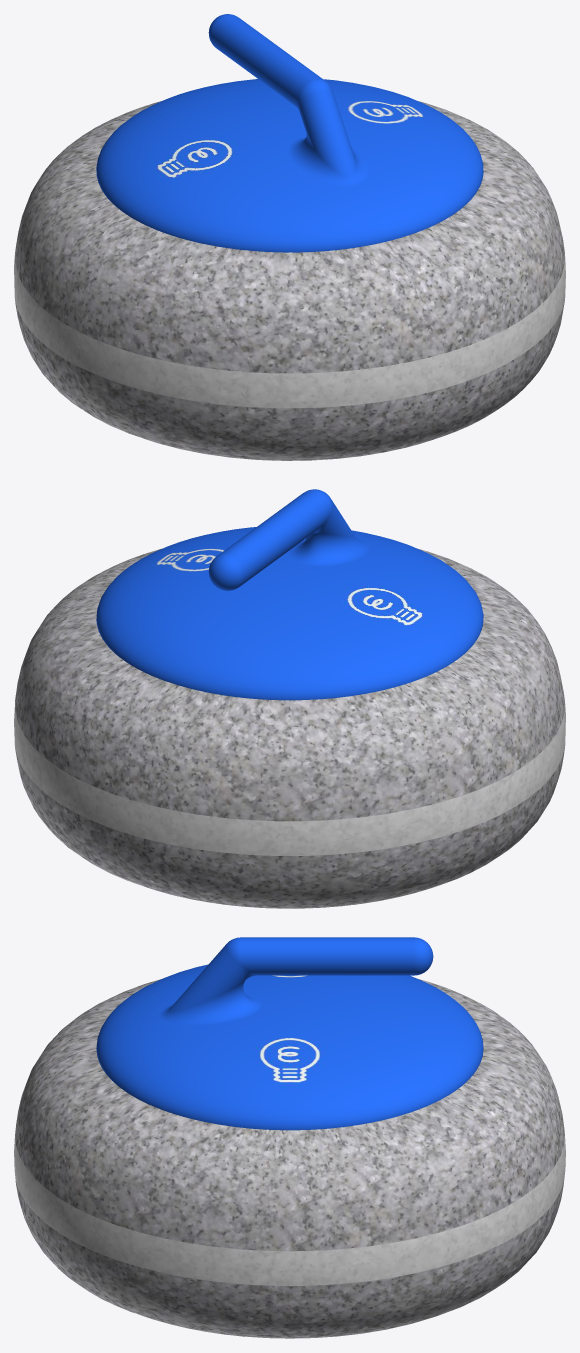
The model's file is stone-blue.glb.
3 renders of one model, top to bottom at view 1: azimuth 30°, elevation 25°; view 2: azimuth 150°, elevation 25°; view 3: azimuth 270°, elevation 25°, orthographic.
Visible parts, largest first — view 1: Body4, Body7, Body5, Body6; view 2: Body4, Body7, Body5, Body6; view 3: Body4, Body7, Body5, Body6.
Boxes of the visible parts, left/top/right/bottom form: Body4: left=15, top=101, right=564, bottom=373; Body7: left=96, top=14, right=483, bottom=252; Body5: left=15, top=299, right=564, bottom=460; Body6: left=14, top=252, right=565, bottom=408; Body4: left=15, top=548, right=564, bottom=821; Body7: left=96, top=489, right=483, bottom=700; Body5: left=15, top=747, right=564, bottom=908; Body6: left=14, top=700, right=565, bottom=855; Body4: left=15, top=979, right=564, bottom=1251; Body7: left=96, top=937, right=483, bottom=1130; Body5: left=15, top=1175, right=563, bottom=1338; Body6: left=14, top=1127, right=565, bottom=1285.
Bounding box in the file's own units: 40.45 × 25.65 × 40.47.
Materials: 3 (3 with a texture image).
